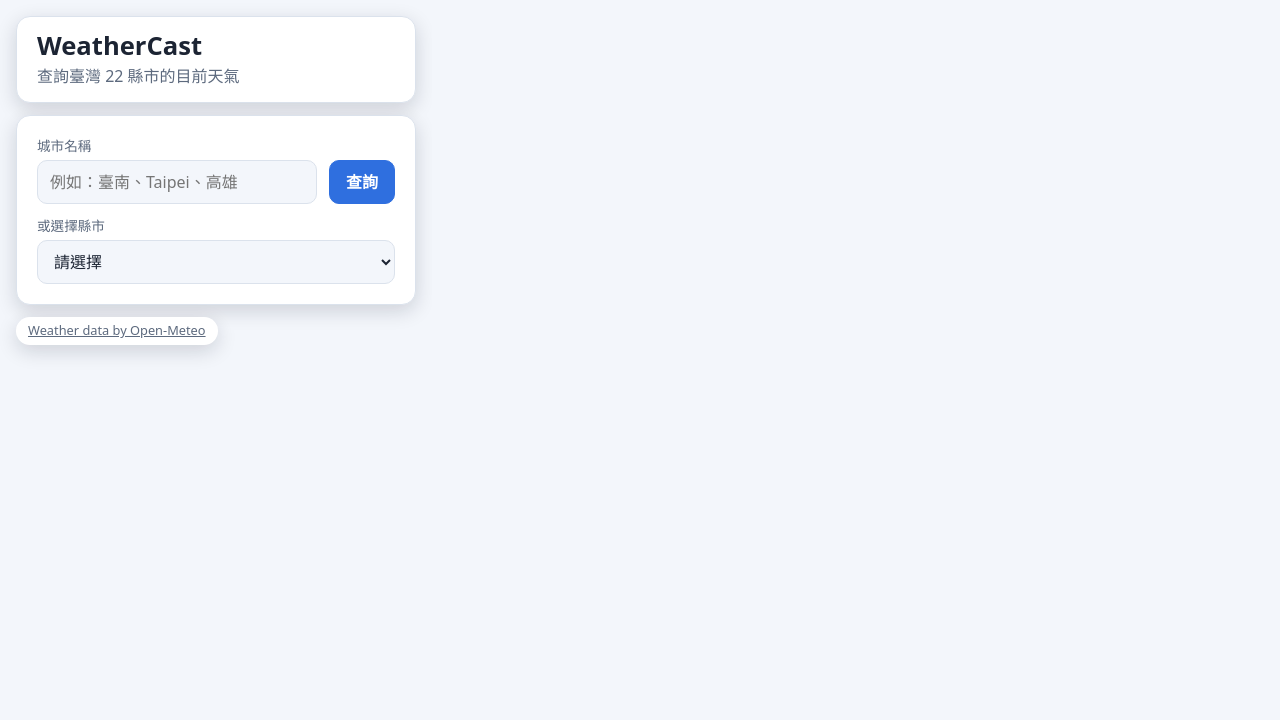
Test: App › retries the same city after an error
The width and height of the screenshot is (1280, 720).
Type "Tainan" into the field labelled "城市名稱".
click(177, 182); type("Tainan")  # box [37,160,317,204]
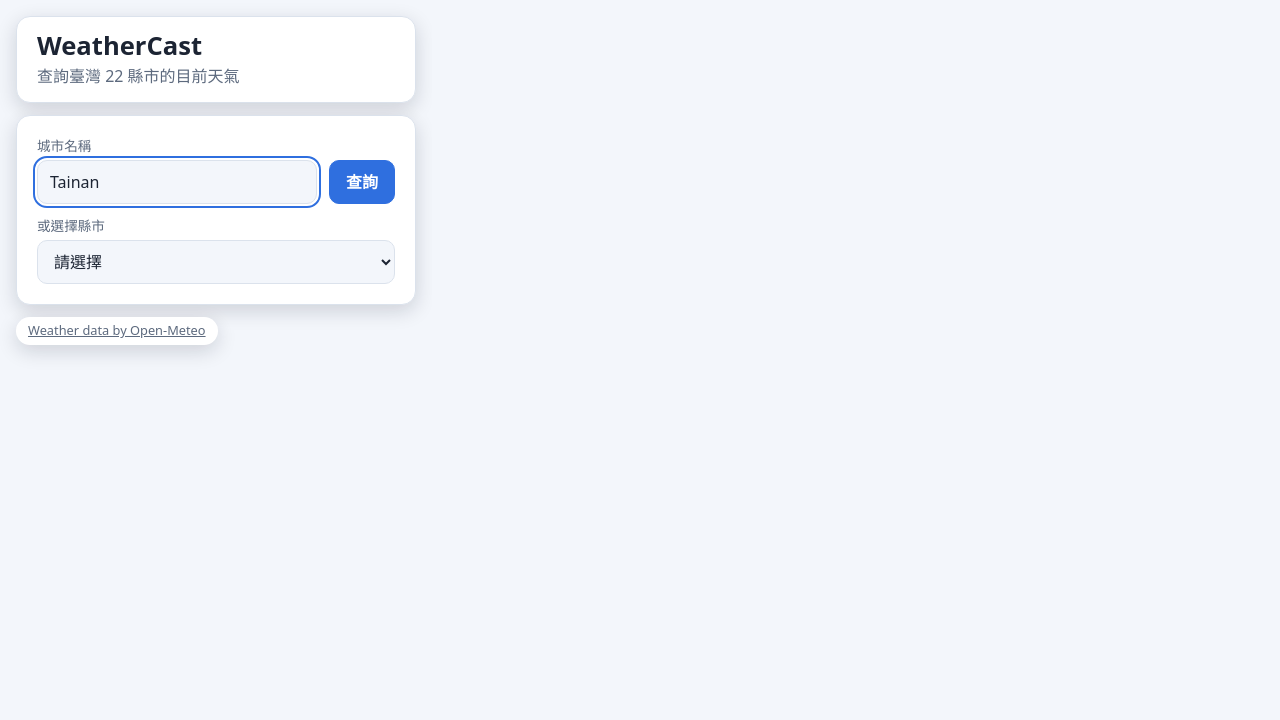
Click the button "查詢".
click(362, 182)  # box [329,160,395,204]
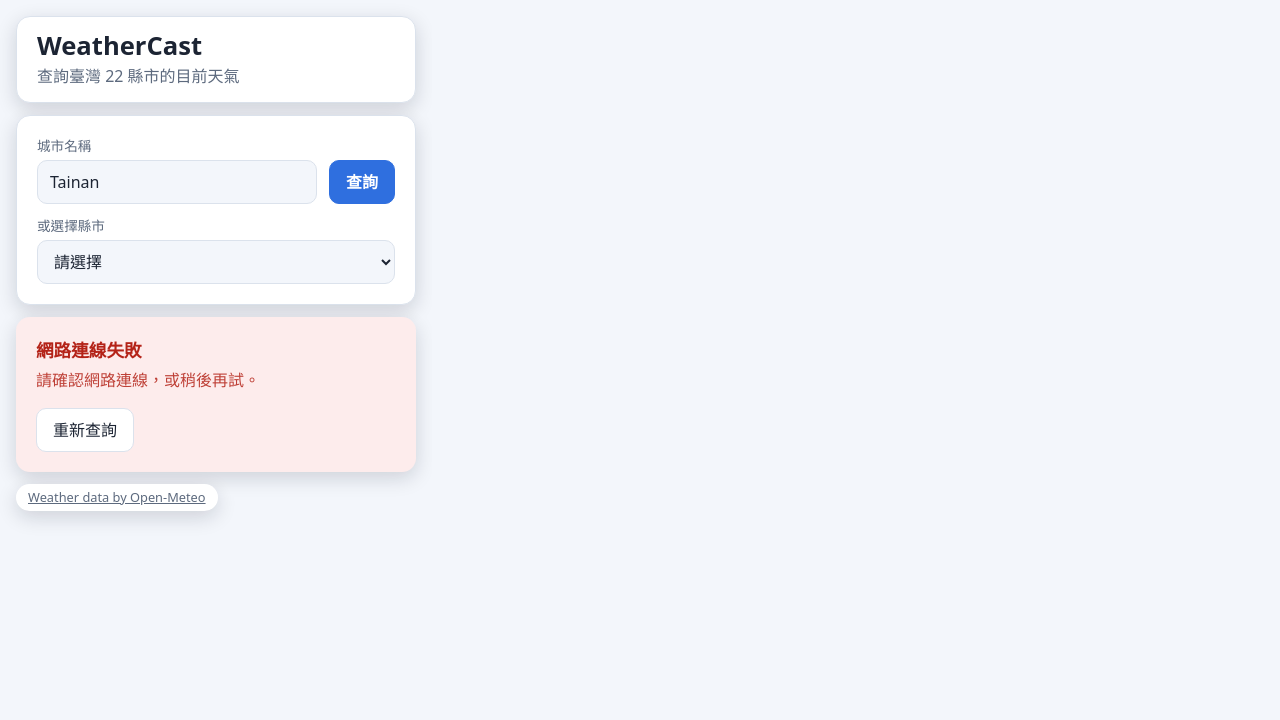
Click the button "重新查詢".
click(85, 430)  # box [36,408,134,452]
(page scrolled)
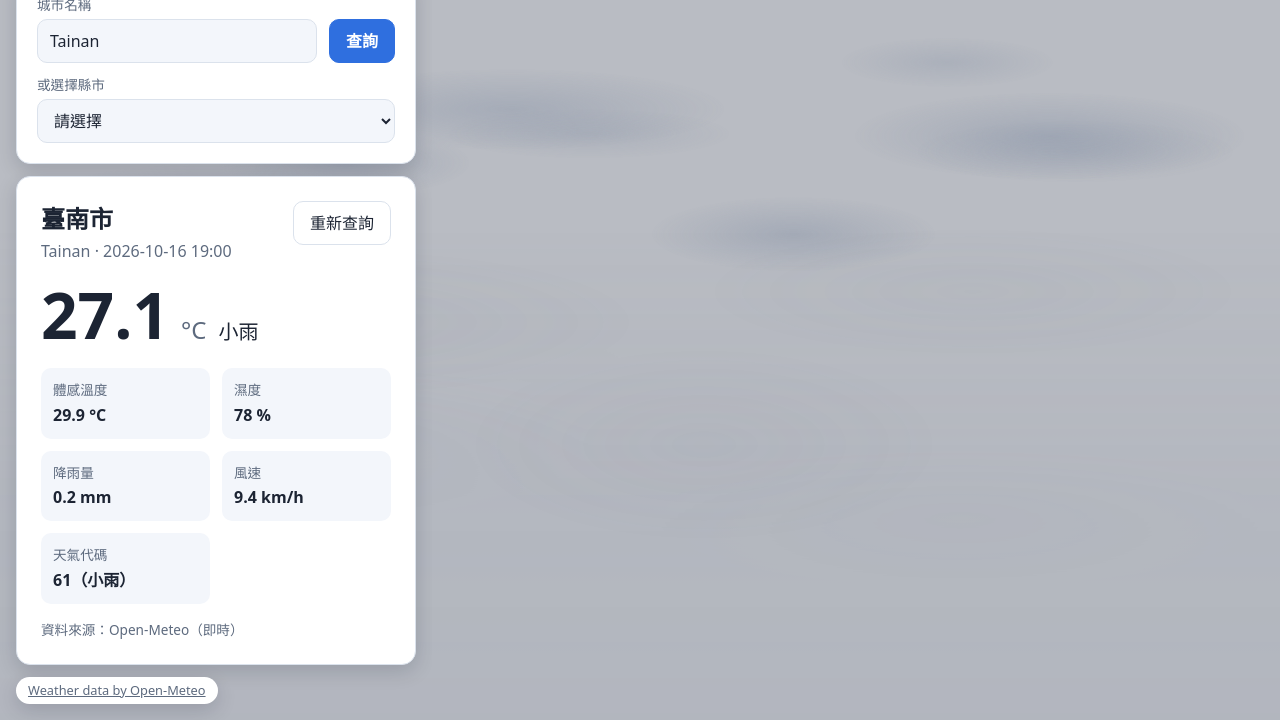
Check: the element that starts with "臺南市" is shown, box [16,176,416,665]
